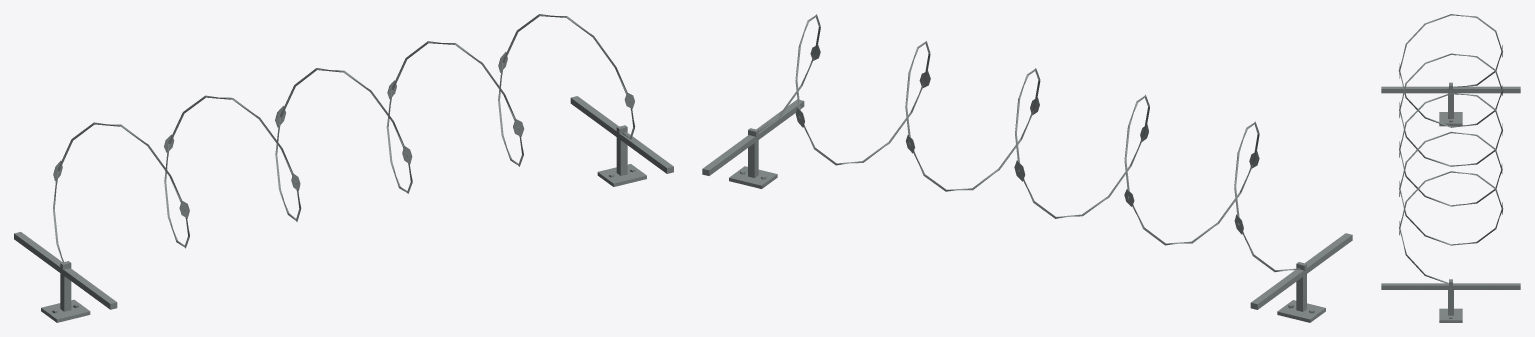
File: bunker_razorwire_fence_top_straight.glb
3 views of the same model, side by side, from view 1: azimuth 30°, elevation 25°; view 2: azimuth 150°, elevation 25°; view 3: azimuth 270°, elevation 25° (orthographic). The views are drawn at different scales.
Parts seen in each view (by area): view 1: RazorwireStraight; view 2: RazorwireStraight; view 3: RazorwireStraight.
Part boxes in pixels (x1,y1,x2,y2): RazorwireStraight: (14,14,673,322); RazorwireStraight: (702,14,1352,322); RazorwireStraight: (1381,14,1520,322).
Size of what is drawn, in the model's own units: 2.12 by 0.6002 by 0.6.
Materials: 1 (1 with a texture image).
